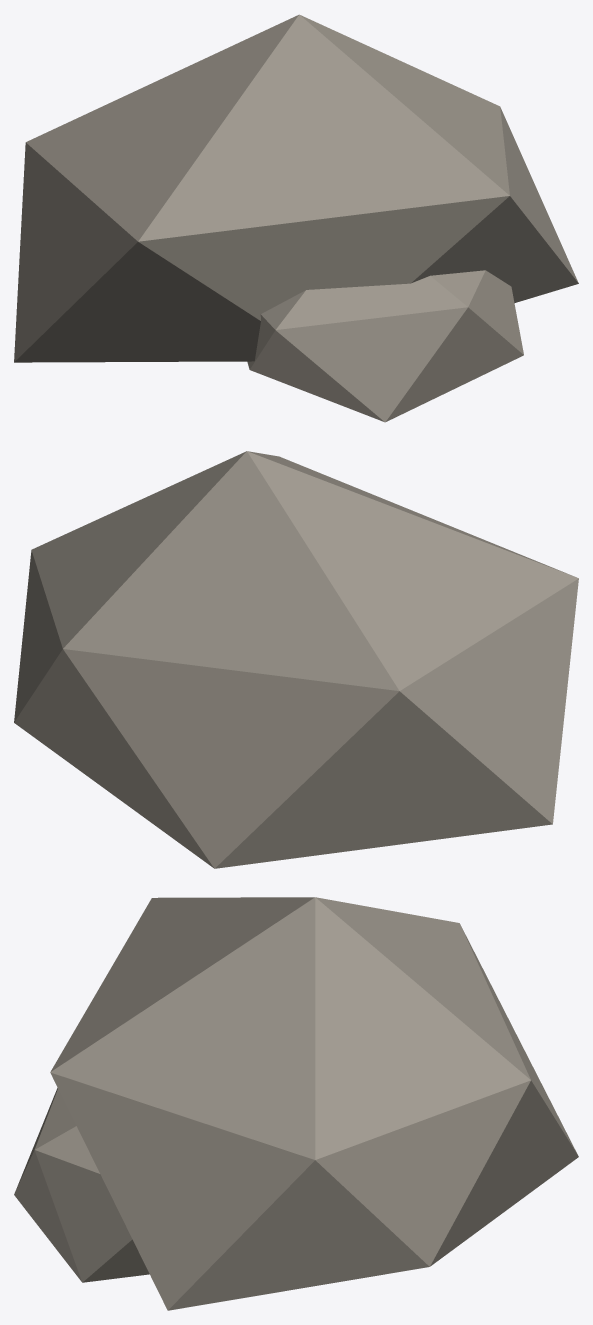
The model's file is HS_LP_Rock_Large_02.fbx.
The picture shows the model from 3 angles, top to bottom: view 1: azimuth 30°, elevation 25°; view 2: azimuth 150°, elevation 25°; view 3: azimuth 270°, elevation 25°; orthographic projection. The views are drawn at different scales.
Parts seen in each view (by area): view 1: HS_LP_Rock_Large_02; view 2: HS_LP_Rock_Large_02; view 3: HS_LP_Rock_Large_02.
Part boxes in pixels (left/top/right/bottom): HS_LP_Rock_Large_02: left=14, top=14, right=578, bottom=422; HS_LP_Rock_Large_02: left=14, top=451, right=578, bottom=868; HS_LP_Rock_Large_02: left=14, top=897, right=578, bottom=1310.
Bounding box in the file's own units: 189 × 122 × 169.
